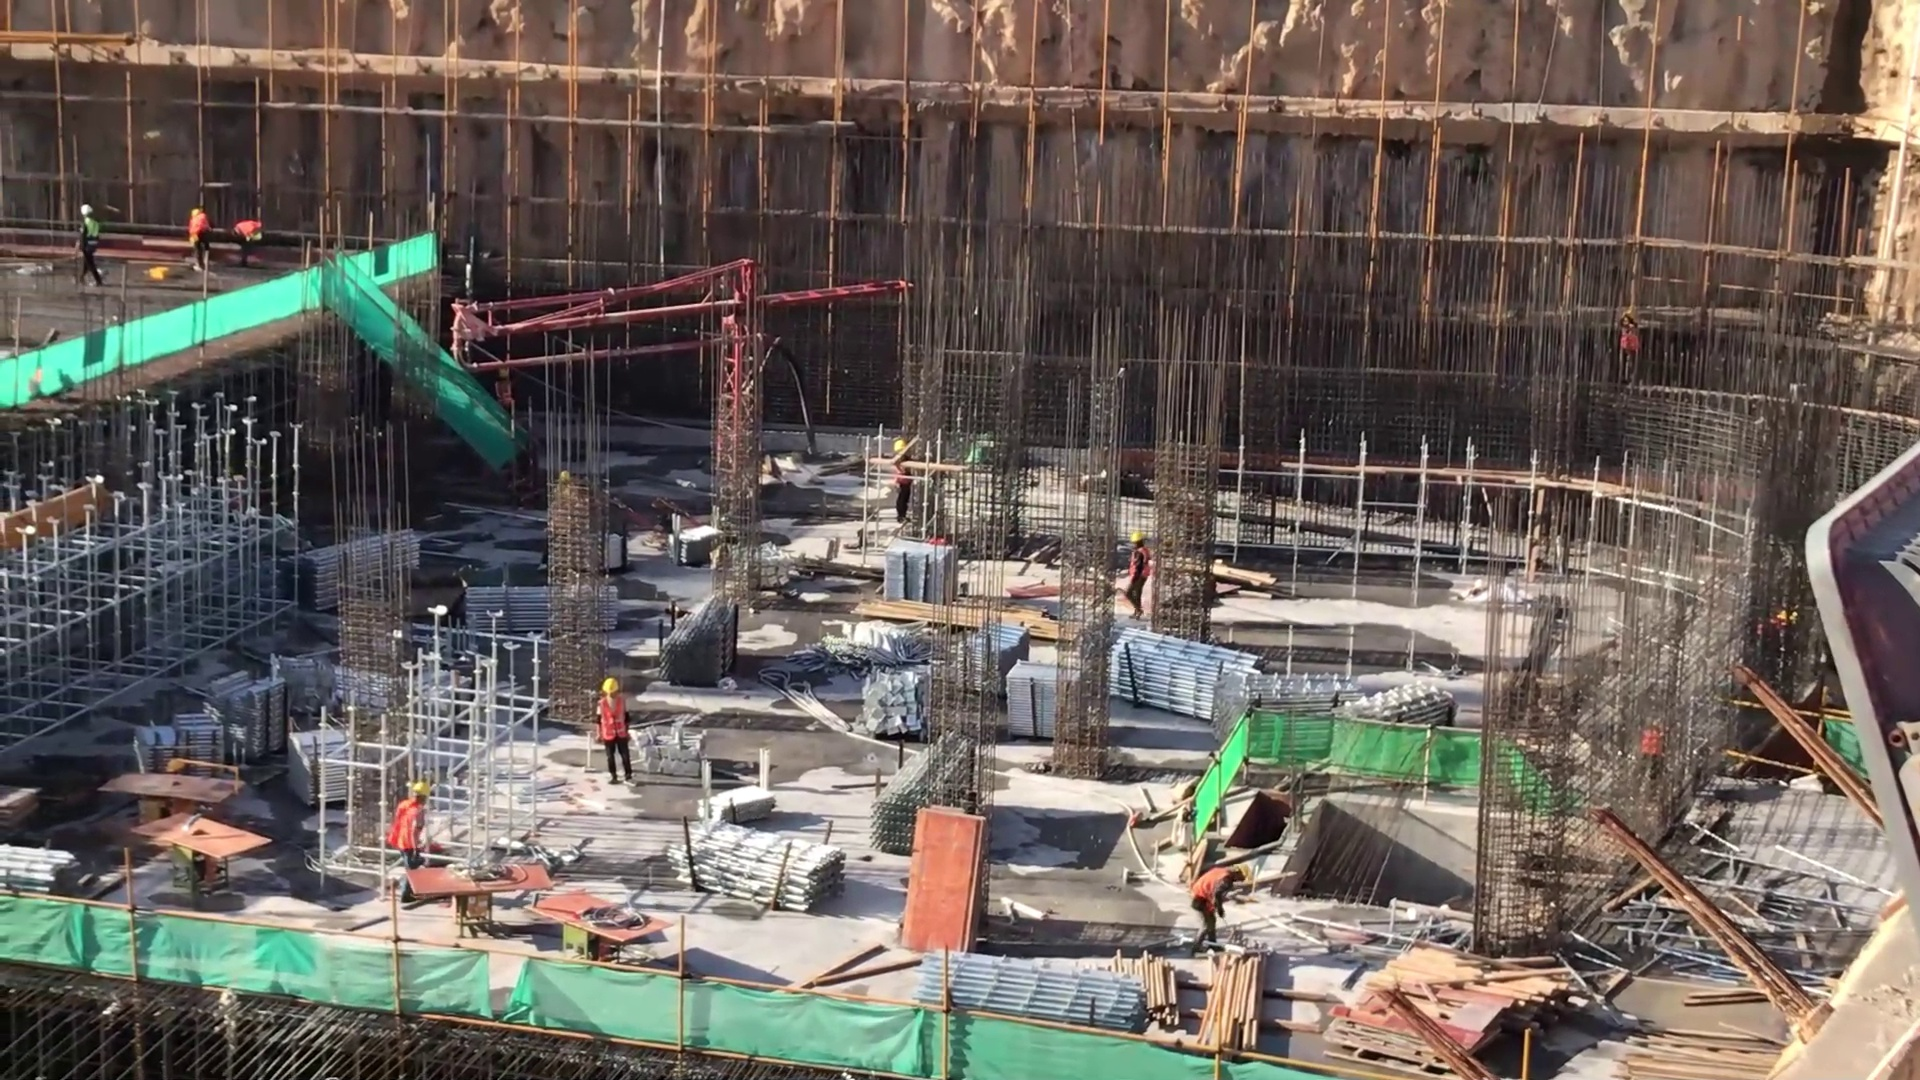board: (902, 794, 990, 958), (1322, 985, 1520, 1050), (1, 776, 43, 838)
cutter: (126, 810, 279, 898), (399, 852, 550, 939), (530, 878, 659, 966), (95, 765, 249, 835)
helmet: (404, 779, 434, 808), (1231, 856, 1256, 885), (603, 679, 623, 704), (494, 364, 513, 387), (1129, 530, 1147, 548), (80, 200, 98, 219), (893, 438, 909, 455)
person: (1180, 860, 1259, 972), (385, 782, 444, 911), (584, 676, 634, 794), (71, 201, 118, 302), (1124, 527, 1153, 635), (181, 208, 215, 291), (888, 438, 918, 532), (228, 206, 270, 269), (496, 356, 521, 441)
scaffold: (908, 950, 1154, 1038), (654, 813, 849, 924), (1099, 619, 1259, 736), (1315, 679, 1479, 784), (1220, 668, 1370, 773), (283, 516, 435, 608), (450, 582, 628, 639), (651, 596, 745, 694), (942, 623, 1044, 703), (131, 707, 221, 784), (214, 668, 287, 757), (286, 726, 362, 811)
vest: (1190, 864, 1239, 914), (389, 799, 424, 857), (594, 700, 634, 746), (1125, 547, 1154, 588), (230, 216, 259, 239), (81, 217, 102, 247), (189, 215, 210, 244), (497, 382, 517, 409)
wood: (1606, 1031, 1798, 1080)
